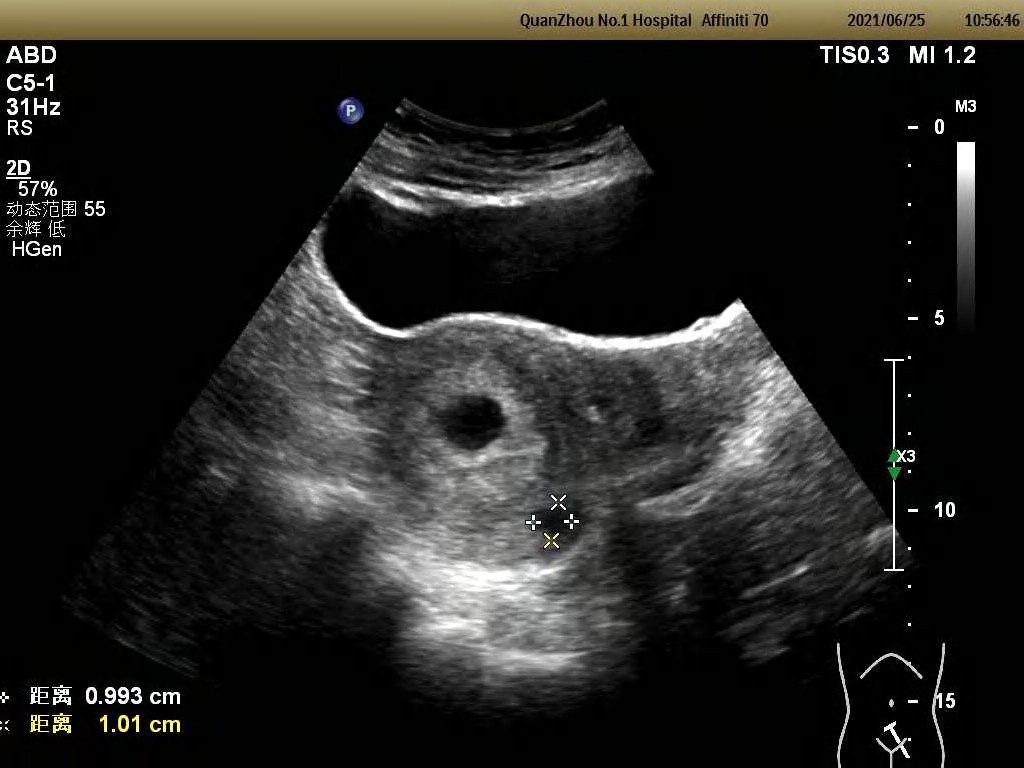肌瘤: (538, 507, 579, 536)
